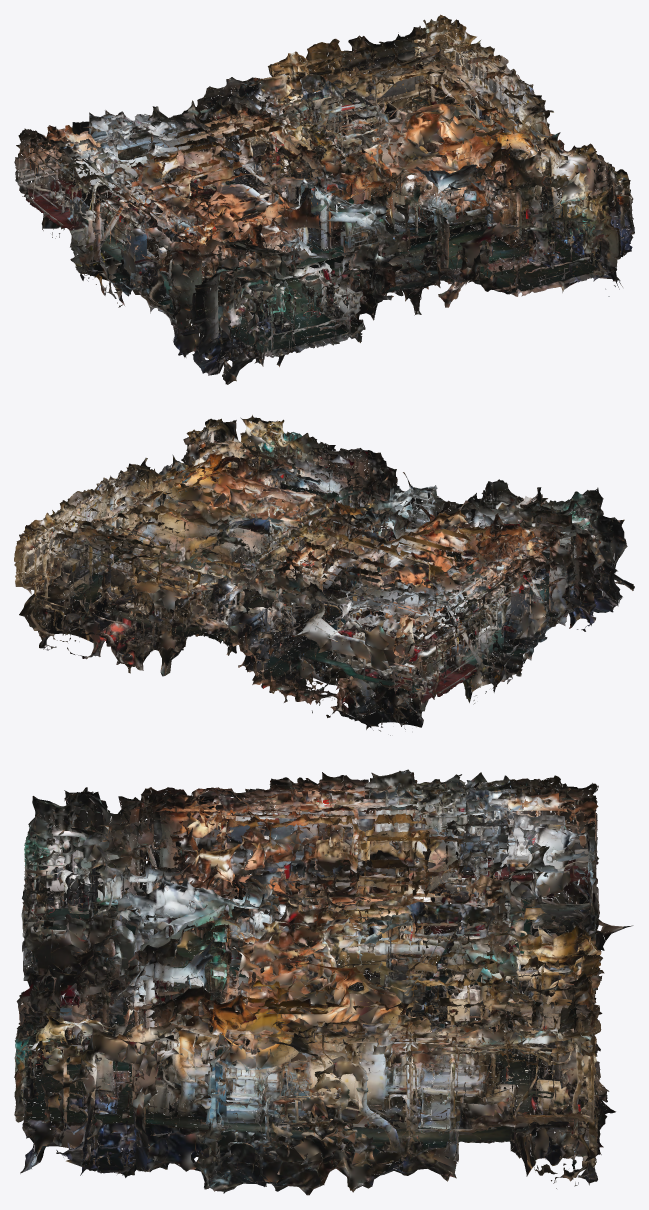
The model's file is engine-room.glb.
3 renders of one model, top to bottom at view 1: azimuth 30°, elevation 25°; view 2: azimuth 150°, elevation 25°; view 3: azimuth 270°, elevation 25°, orthographic. The views are drawn at different scales.
Parts seen in each view (by area): view 1: Object_6, Object_18, Object_8, Object_11, Object_7, Object_9, Object_19, Object_13, Object_10, Object_21, Object_22, Object_20 (+13 smaller); view 2: Object_6, Object_18, Object_8, Object_7, Object_19, Object_12, Object_9, Object_11, Object_22, Object_10, Object_20, Object_23 (+11 smaller); view 3: Object_18, Object_6, Object_8, Object_19, Object_7, Object_9, Object_22, Object_11, Object_20, Object_25, Object_10, Object_21 (+13 smaller).
Part boxes in pixels (box(x1,y1,x2,y2)): Object_6: box(15, 36, 633, 384); Object_18: box(16, 35, 632, 384); Object_8: box(25, 60, 561, 329); Object_11: box(149, 24, 613, 360); Object_7: box(61, 70, 575, 343); Object_9: box(34, 94, 634, 325); Object_19: box(32, 67, 567, 286); Object_13: box(82, 73, 625, 347); Object_10: box(17, 40, 584, 301); Object_21: box(30, 92, 619, 317); Object_22: box(64, 62, 633, 359); Object_20: box(26, 102, 546, 324); Object_6: box(51, 415, 634, 735); Object_18: box(39, 417, 634, 731); Object_8: box(15, 470, 549, 725); Object_7: box(79, 448, 614, 696); Object_19: box(25, 464, 518, 675); Object_12: box(14, 452, 602, 724); Object_9: box(107, 428, 592, 674); Object_11: box(35, 422, 616, 651); Object_22: box(23, 428, 603, 724); Object_10: box(38, 448, 501, 687); Object_20: box(104, 477, 551, 720); Object_23: box(14, 424, 571, 720); Object_18: box(14, 785, 633, 1195); Object_6: box(14, 787, 623, 1193); Object_8: box(59, 773, 603, 1191); Object_19: box(67, 770, 615, 1183); Object_7: box(16, 769, 609, 1154); Object_9: box(68, 802, 596, 1172); Object_22: box(25, 807, 577, 1188); Object_11: box(14, 819, 596, 1172); Object_20: box(59, 772, 597, 1194); Object_25: box(14, 778, 598, 1175); Object_10: box(70, 782, 596, 1134); Object_21: box(42, 801, 595, 1160).
Bounding box in the file's own units: 21.38 × 5.76 × 18.98.
Materials: 2 (2 with a texture image).
